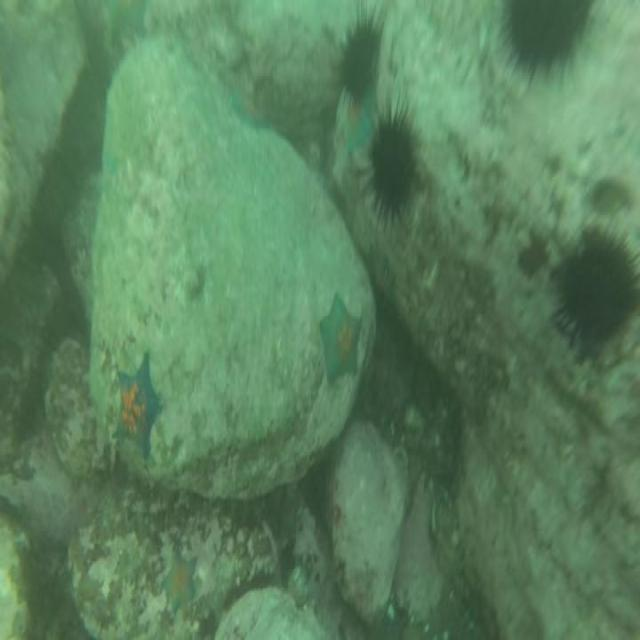echinus: (552, 212, 640, 363), (496, 0, 603, 88), (363, 98, 425, 232), (334, 3, 384, 117)
starfish: (108, 351, 164, 461), (316, 291, 362, 390), (154, 542, 202, 621), (340, 87, 378, 161), (228, 80, 274, 136)
